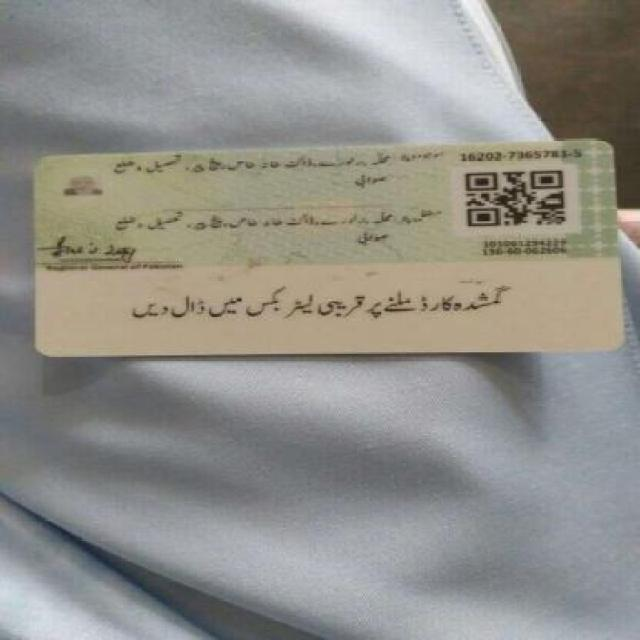Back: (26, 138, 628, 357)
